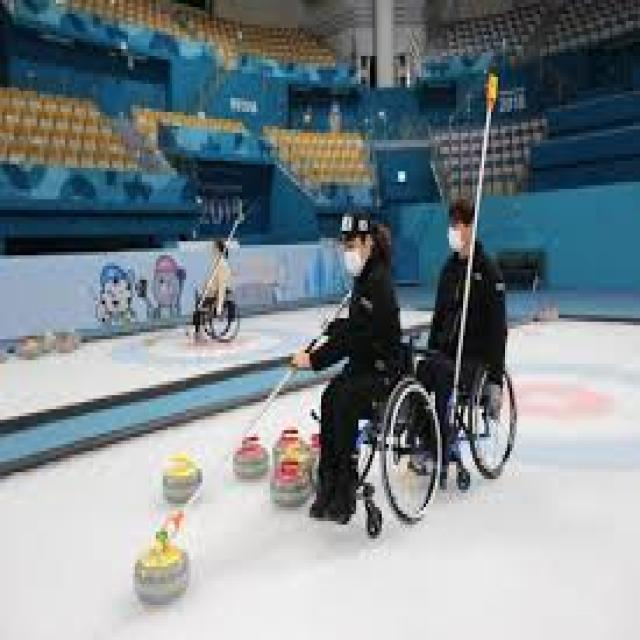wheelchair: (301, 211, 438, 528), (442, 201, 518, 490)
